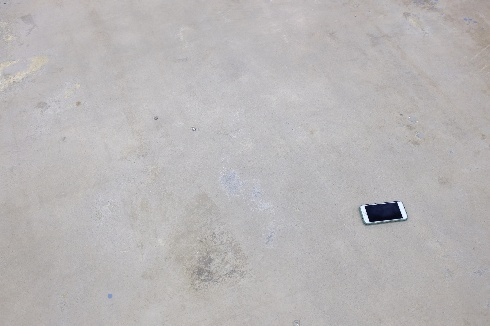phone: (360, 196, 409, 228)
